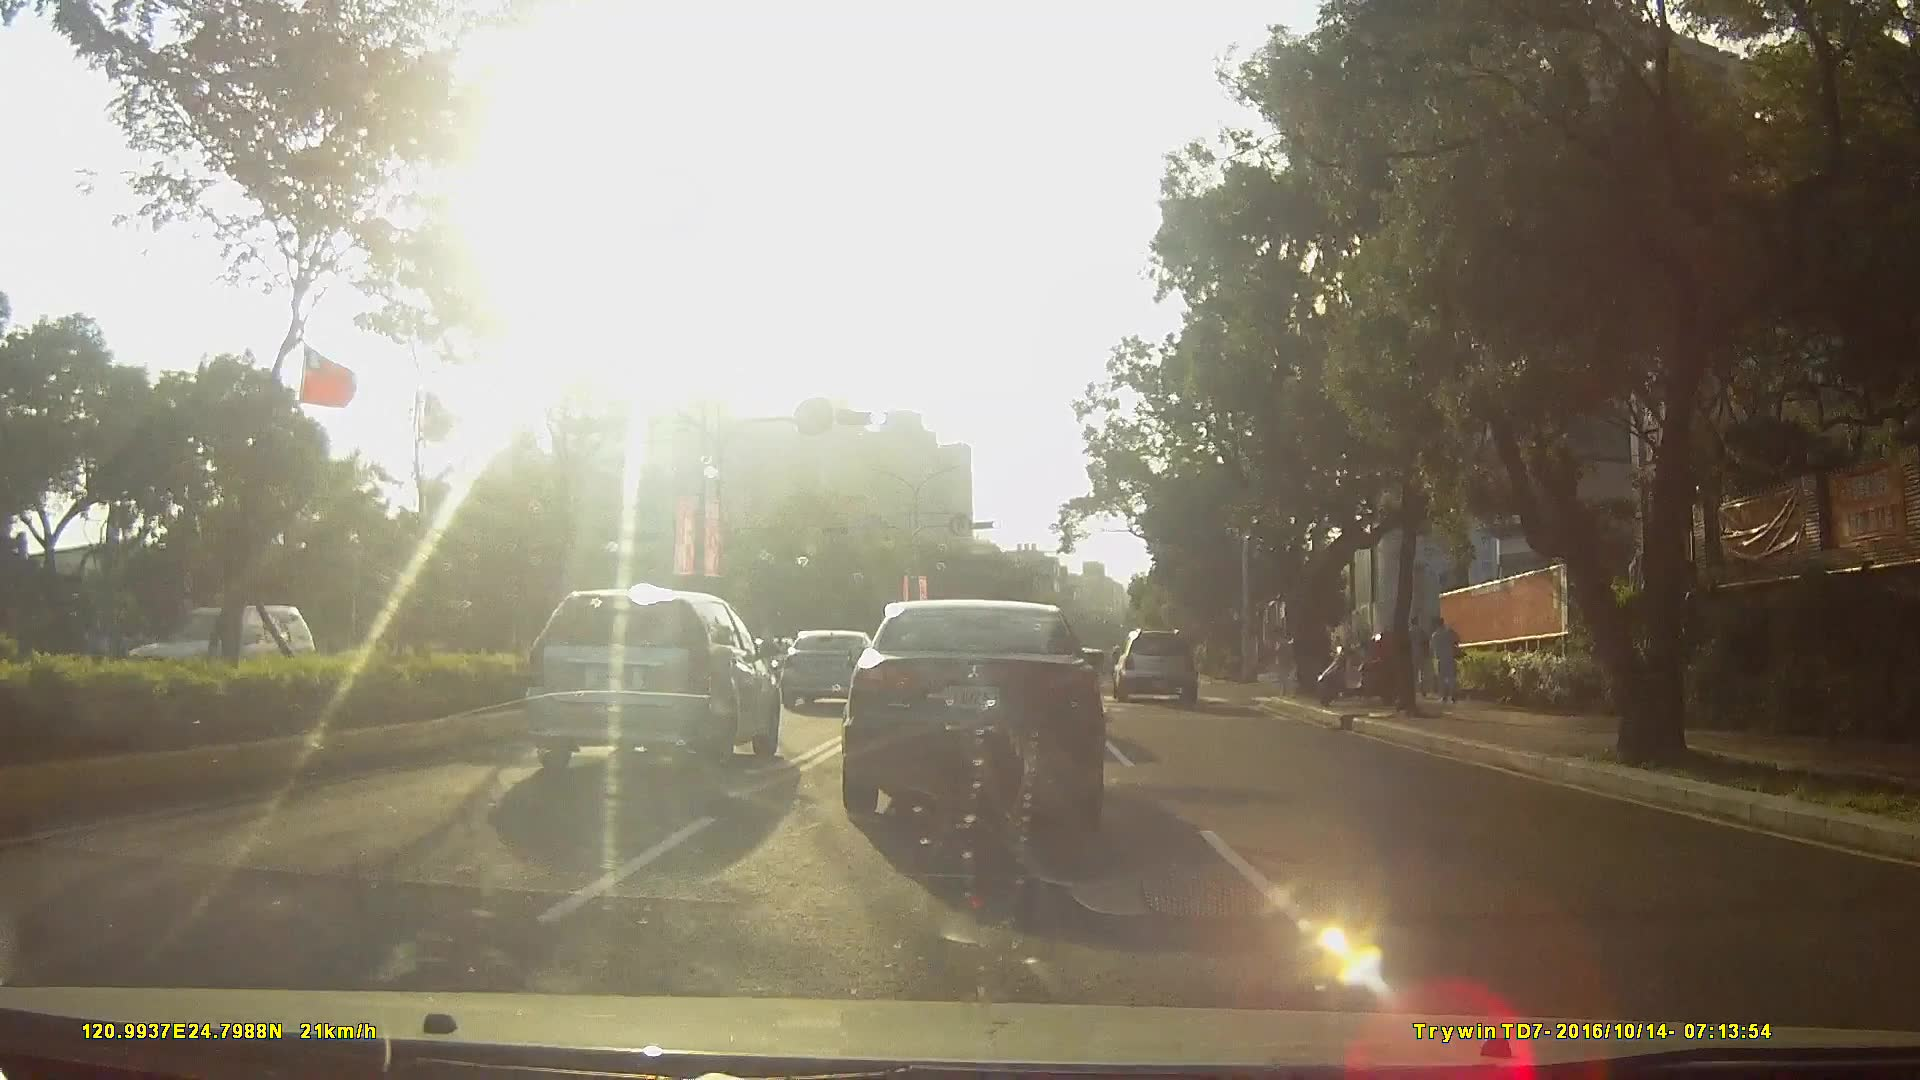pedestrian: (1427, 617, 1466, 708), (1408, 614, 1430, 700)
vehicle: (119, 601, 323, 697), (774, 628, 876, 717), (1110, 625, 1207, 706)
